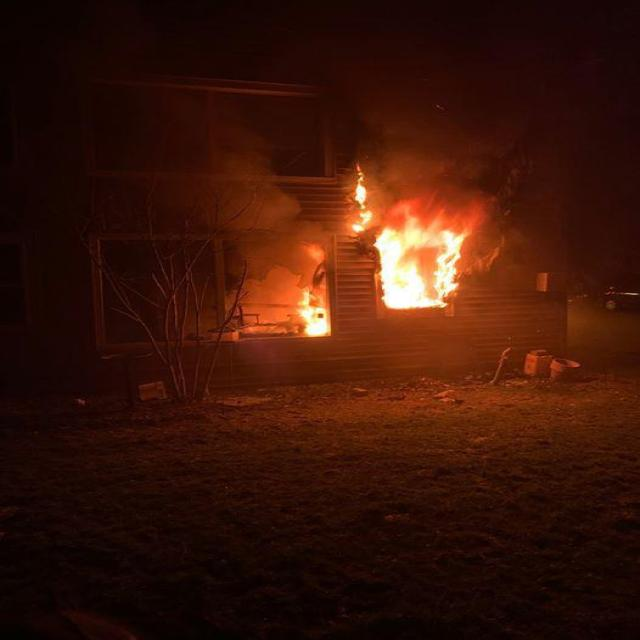Fire: (381, 202, 462, 311), (292, 283, 330, 336), (348, 162, 374, 234)
